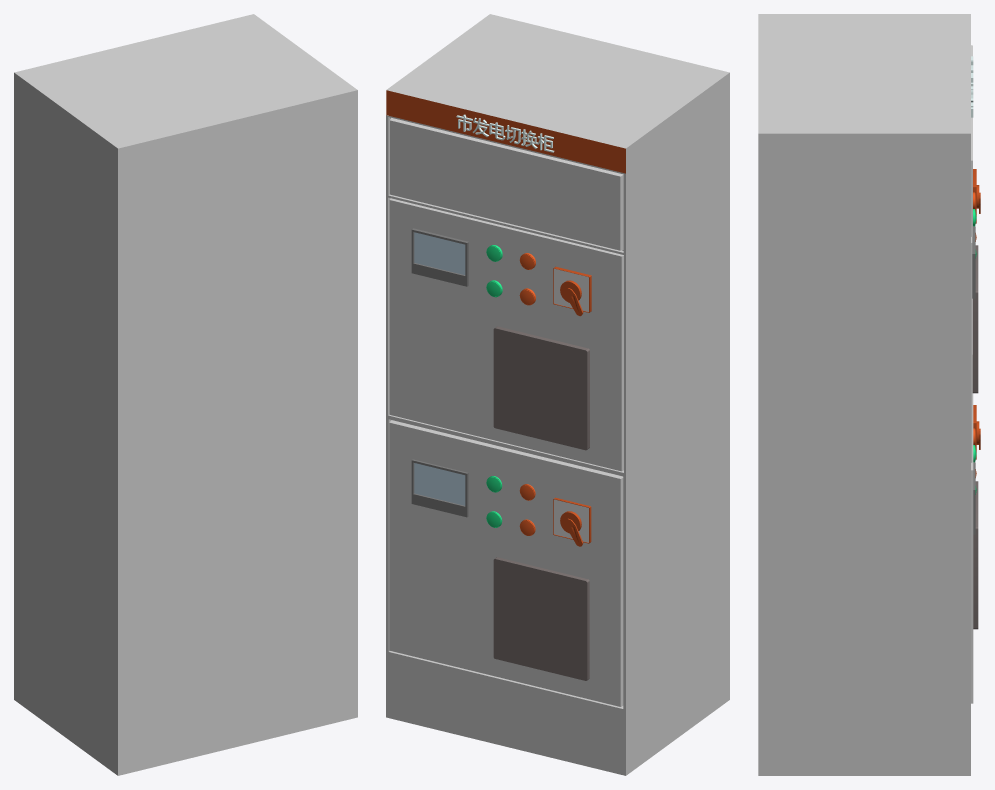
The model's file is eleBox_mini.gltf.
3 views of the same model, side by side, from view 1: azimuth 30°, elevation 25°; view 2: azimuth 150°, elevation 25°; view 3: azimuth 270°, elevation 25° (orthographic). The views are drawn at different scales.
Visible parts, largest first — view 1: 发电柜; view 2: 发电柜; view 3: 发电柜.
Boxes of the visible parts, x1,y1,x2,y2 form: 发电柜: [14, 14, 357, 775]; 发电柜: [386, 14, 729, 775]; 发电柜: [758, 14, 980, 775].
Bounding box in the file's own units: 80.02 × 200 × 62.8.
